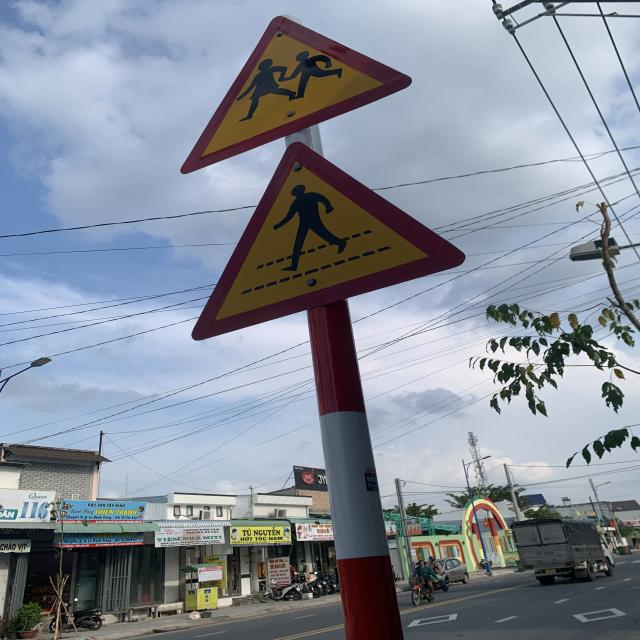Duong_Nguoi_Di_Bo_Sang_Ngang: (190, 142, 464, 340)
Vong_Xuyen: (181, 14, 413, 176)
